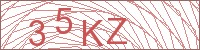3: (29, 19, 46, 46)
5: (55, 7, 73, 34)
K: (81, 19, 104, 47)
Z: (106, 16, 130, 45)
